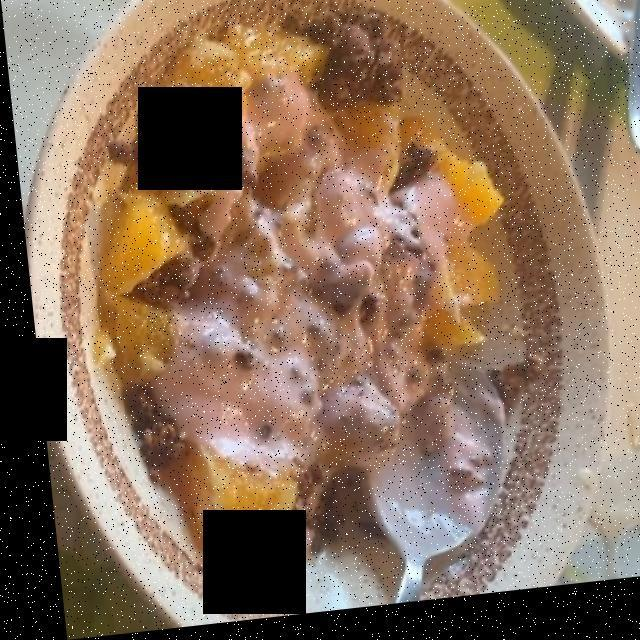birchermuesli: (113, 13, 486, 583)
